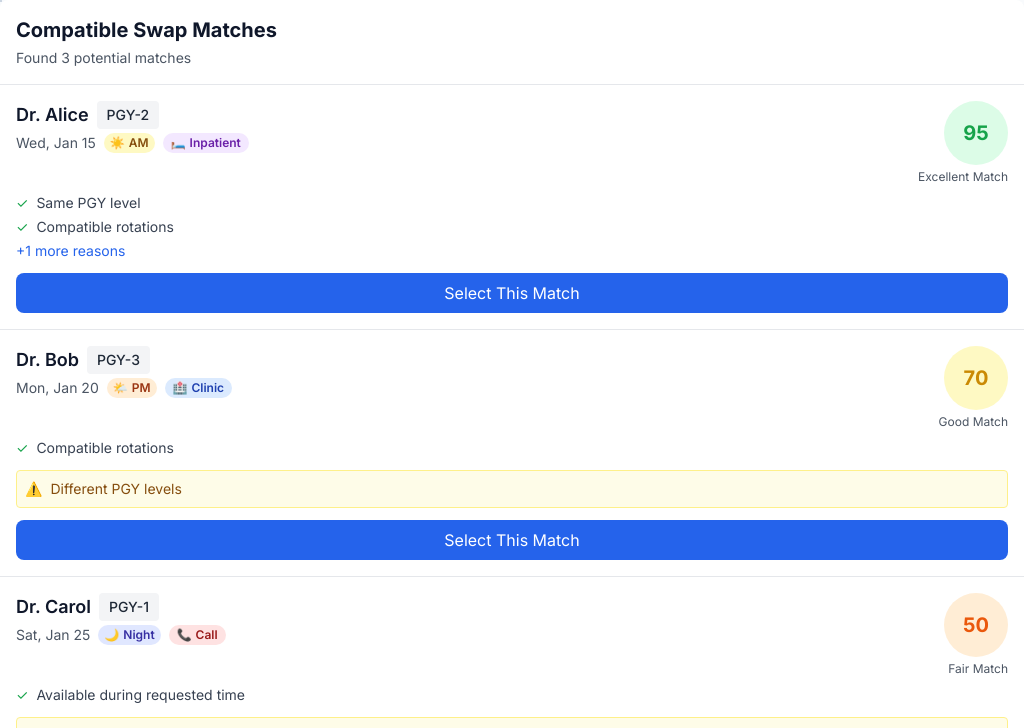
SwapMatchList › Match Reasons › expands to show all reasons when clicked
Click the button "+1 more reasons" at {"x": 71, "y": 251}, box [16,241,125,261]
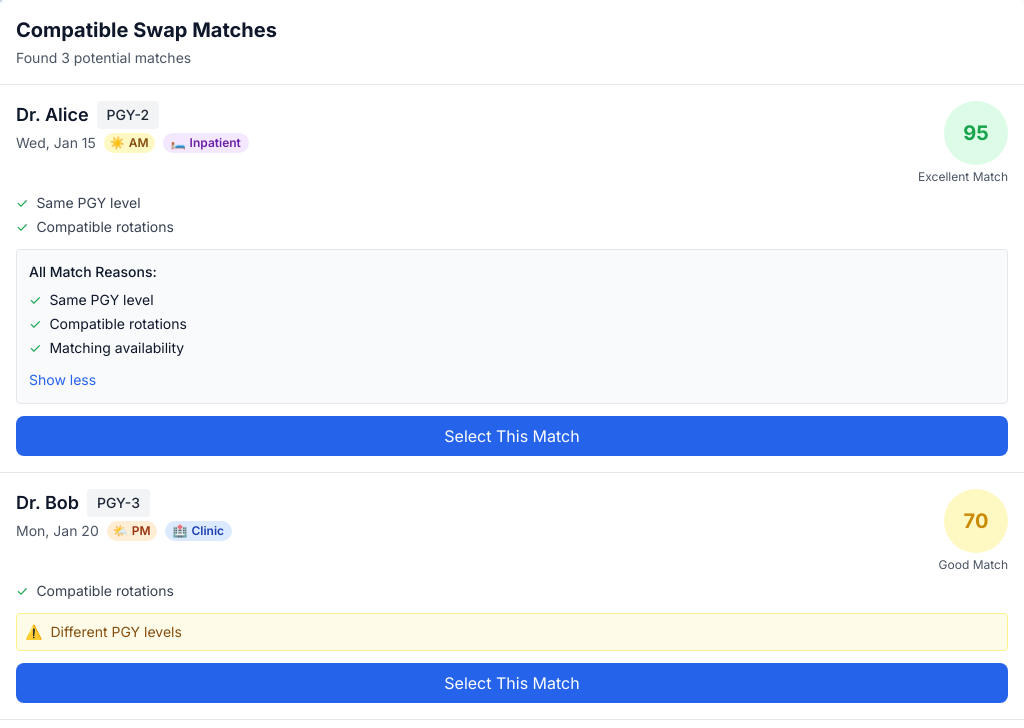
Result: the text "Matching availability" is shown at [49,338,184,358]
Result: the button "Show less" is shown at [29,370,96,390]
